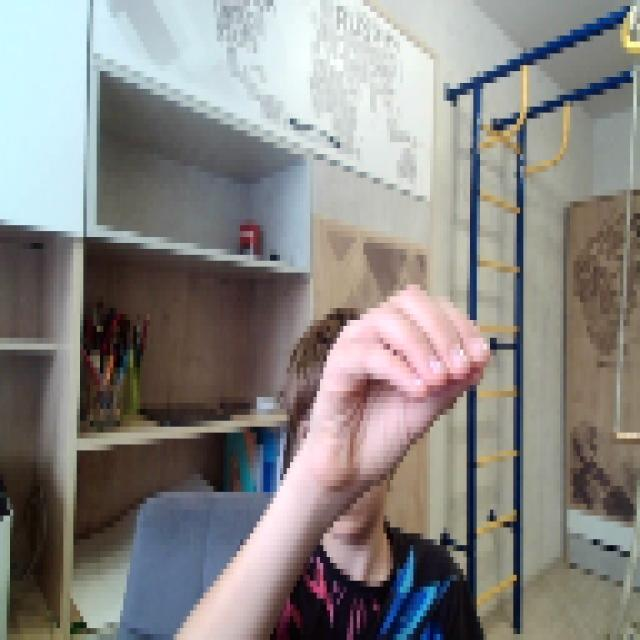left_click: (313, 273, 487, 480)
